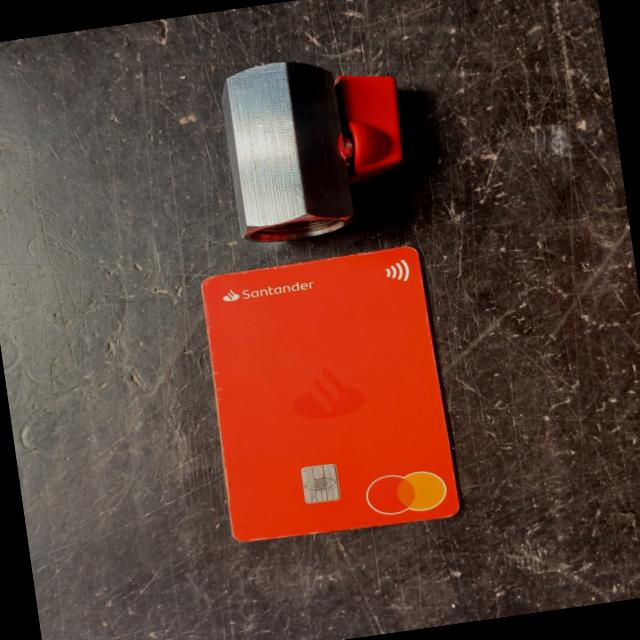cartao: (197, 245, 460, 546)
rosca_interna: (218, 47, 416, 248)
